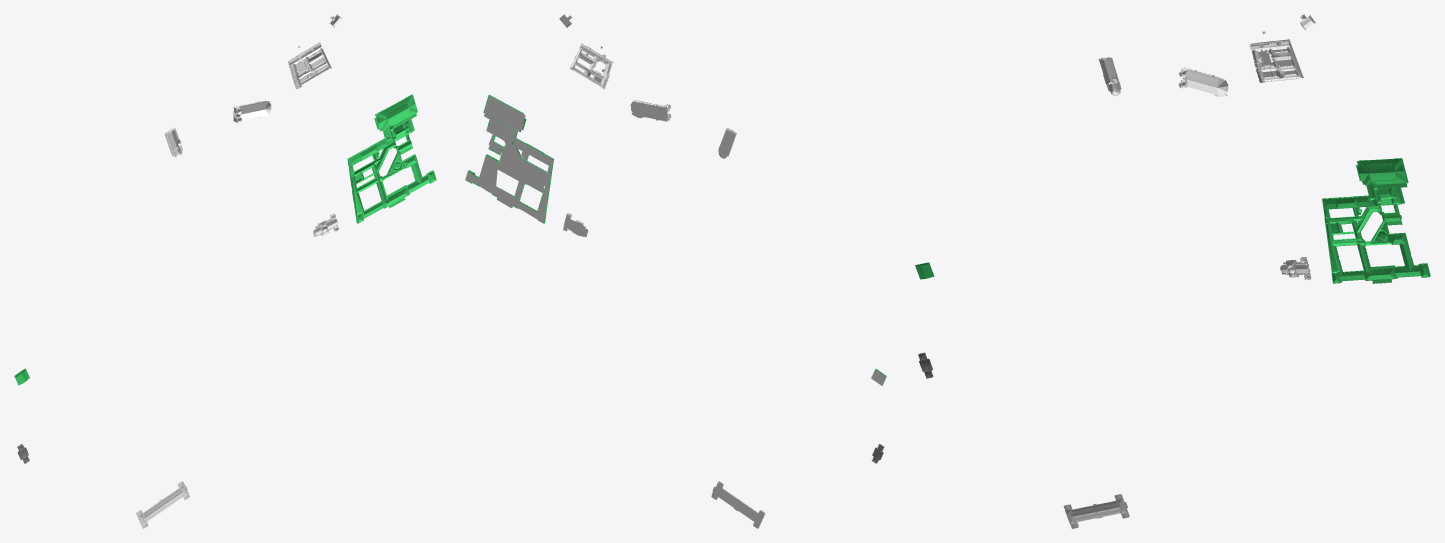
3 renders of one model, left to right at view 1: azimuth 30°, elevation 25°; view 2: azimuth 150°, elevation 25°; view 3: azimuth 330°, elevation 25°, orthographic. The views are drawn at different scales.
Bounding box in the file's own units: 6416 × 6798 × 105.
